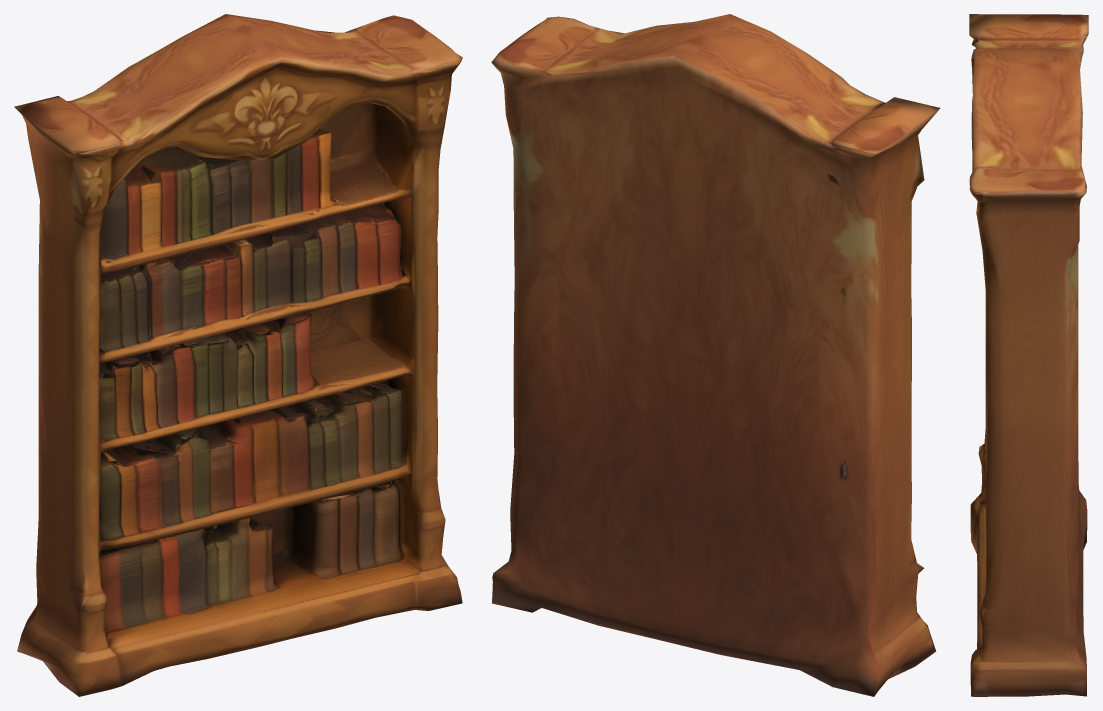
The model's file is Bookshelf 2.glb.
3 renders of one model, left to right at view 1: azimuth 30°, elevation 25°; view 2: azimuth 150°, elevation 25°; view 3: azimuth 270°, elevation 25°, orthographic. The views are drawn at different scales.
Bounding box in the file's own units: 1.32 × 1.91 × 0.3745.
Materials: 1 (1 with a texture image).
